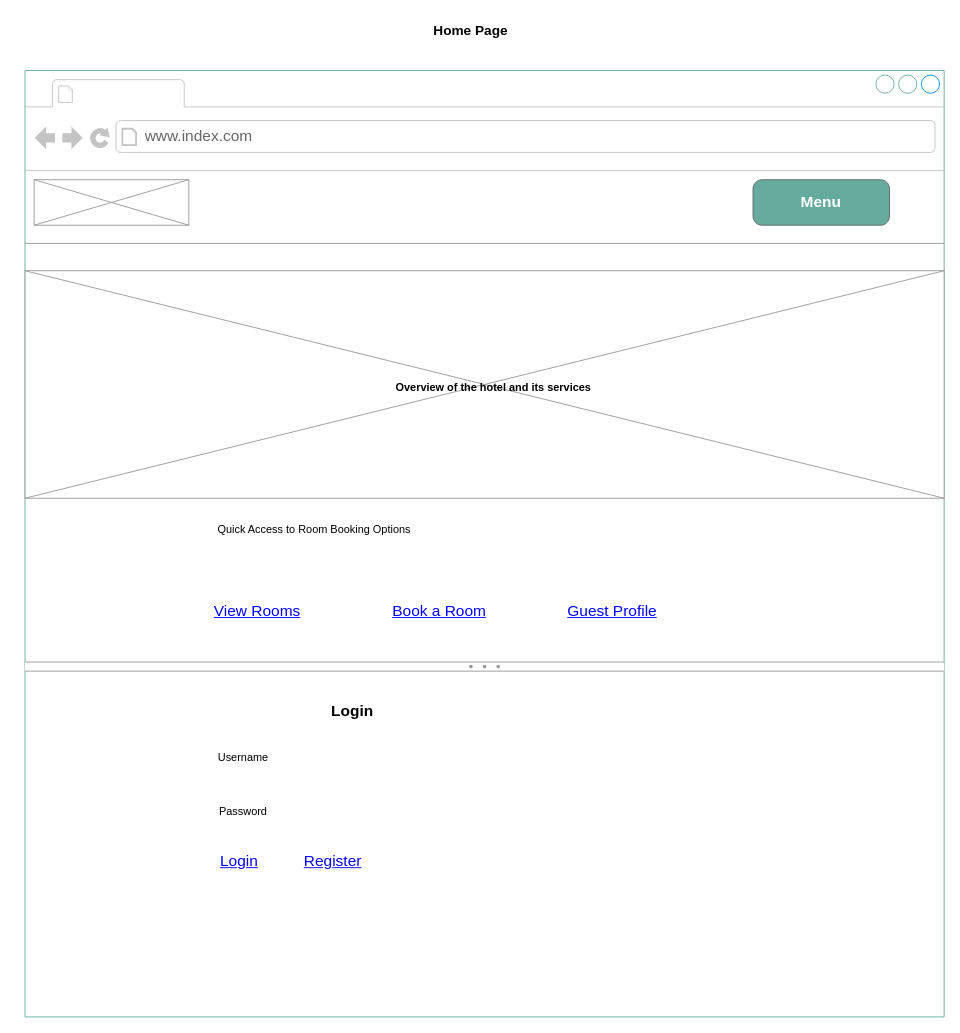
This 960x1033 diagram has some shape labels left out. The centre of each missing label's shape, as x and y in pixels:
Hotel Booking: (x=129, y=93)
Logo: (x=111, y=202)
